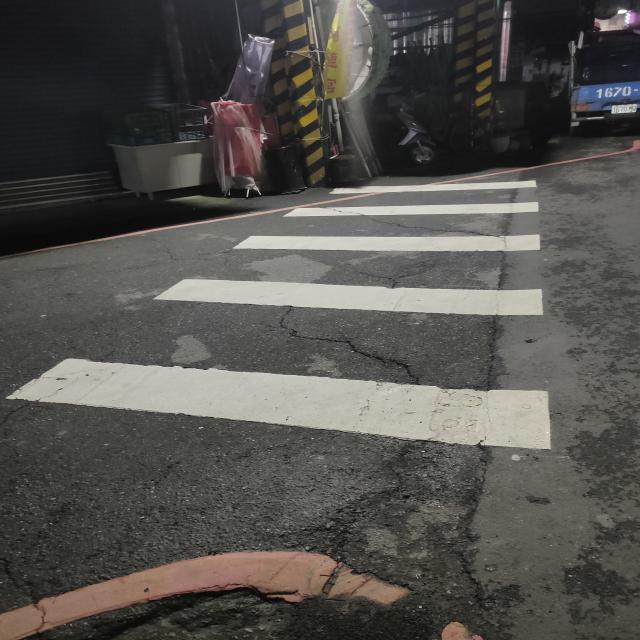zebra_crossing: (343, 0, 350, 381)
